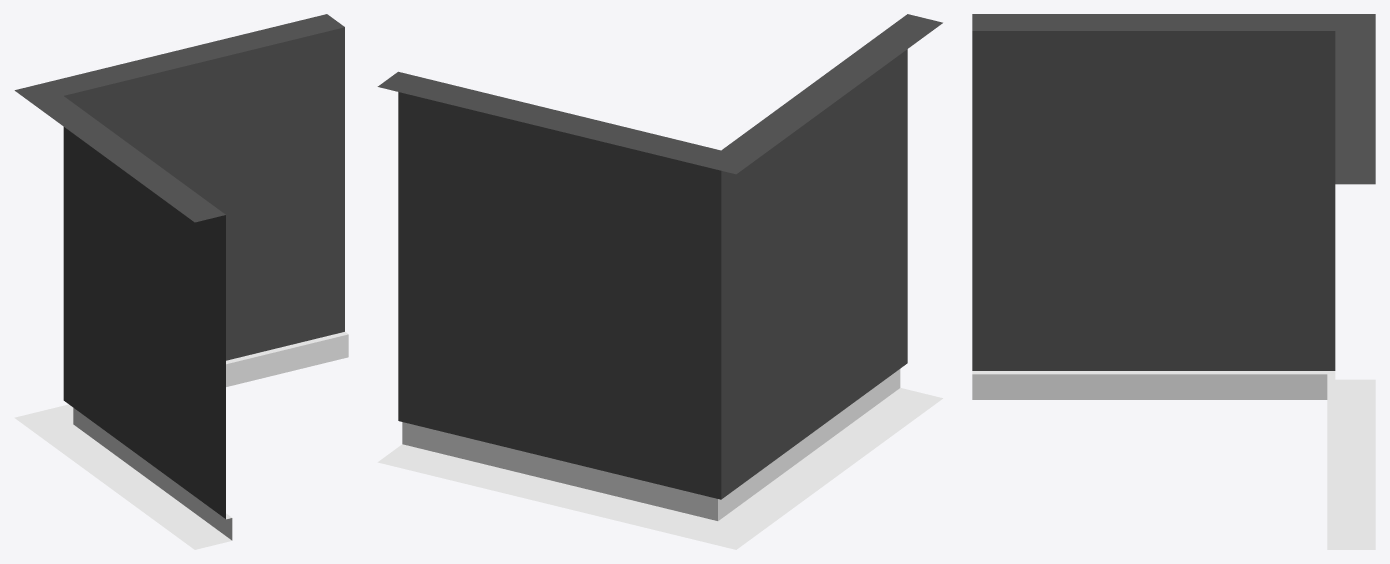
The model's file is Int-V2CornerHalfWallGray.fbx.
3 views of the same model, side by side, from view 1: azimuth 30°, elevation 25°; view 2: azimuth 150°, elevation 25°; view 3: azimuth 270°, elevation 25° (orthographic). The views are drawn at different scales.
Parts seen in each view (by area): view 1: Int-V2CornerHalfWallGray; view 2: Int-V2CornerHalfWallGray; view 3: Int-V2CornerHalfWallGray.
Boxes of the visible parts, x1,y1,x2,y2 form: Int-V2CornerHalfWallGray: [14, 14, 348, 549]; Int-V2CornerHalfWallGray: [377, 14, 942, 549]; Int-V2CornerHalfWallGray: [972, 14, 1375, 549].
Bounding box in the file's own units: 100 × 100 × 100.
